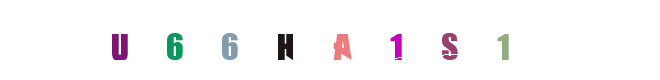1: (310, 0, 390, 80), (358, 0, 438, 80)
6: (134, 0, 214, 80), (245, 0, 325, 80)
A: (291, 0, 371, 80)
H: (277, 0, 357, 80)
S: (350, 0, 430, 80)
U: (79, 0, 159, 80)
